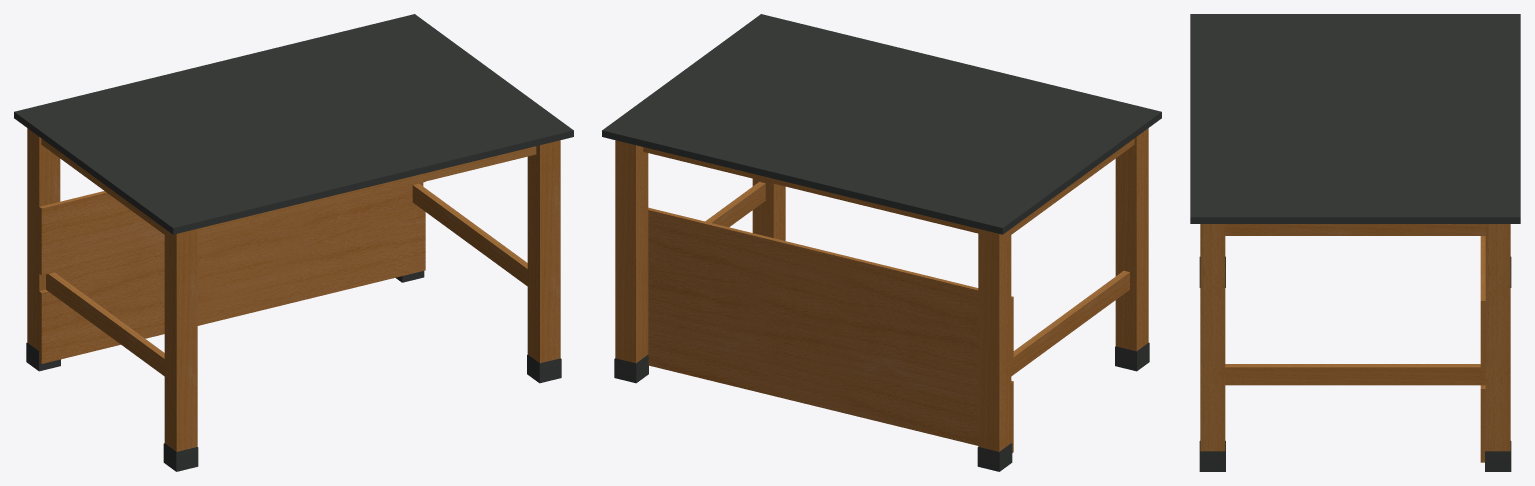
Rendered from desk_blackWood.fbx.
3 renders of one model, left to right at view 1: azimuth 30°, elevation 25°; view 2: azimuth 150°, elevation 25°; view 3: azimuth 270°, elevation 25°, orthographic. The views are drawn at different scales.
Visible parts, largest first — view 1: desk_blackWood; view 2: desk_blackWood; view 3: desk_blackWood.
Boxes of the visible parts, <box> form: desk_blackWood: <box>14,14,573,471</box>; desk_blackWood: <box>602,14,1161,471</box>; desk_blackWood: <box>1190,14,1520,471</box>.
Size of the model in its own units: 122 by 72.39 by 83.82.
1 material, 1 textured.
